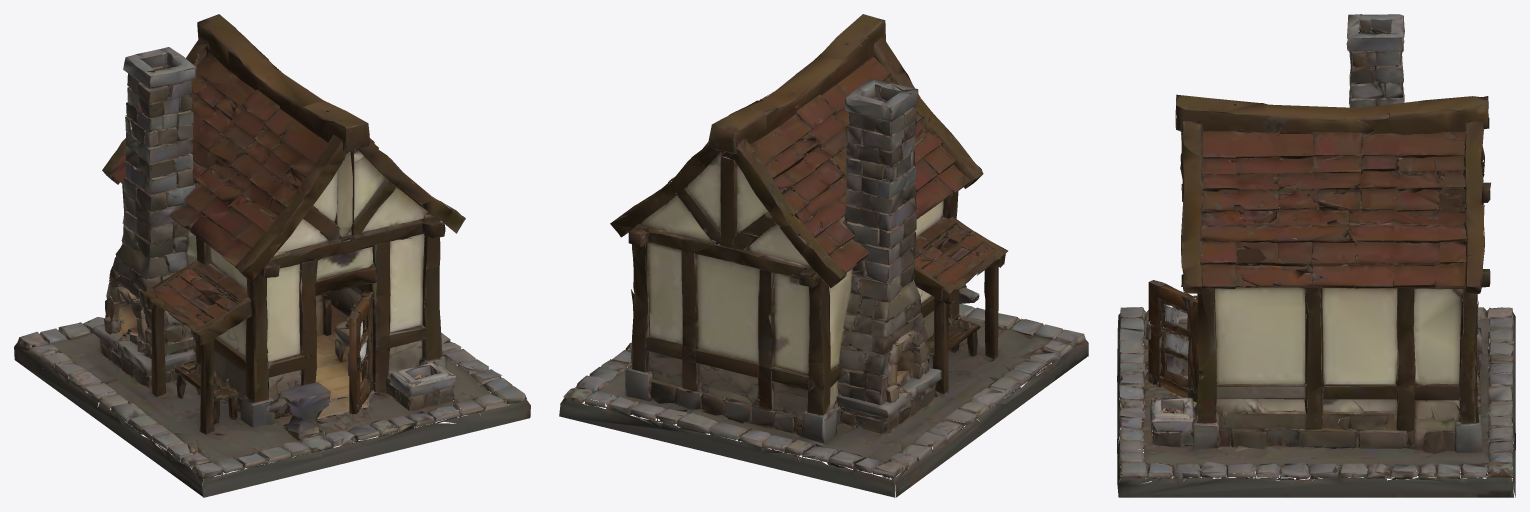
The model's file is blacksmith.glb.
The picture shows the model from 3 angles, left to right: view 1: azimuth 30°, elevation 25°; view 2: azimuth 150°, elevation 25°; view 3: azimuth 270°, elevation 25°; orthographic projection. The views are drawn at different scales.
Visible parts, largest first — view 1: Building; view 2: Building; view 3: Building.
Boxes of the visible parts, x1,y1,x2,y2 form: Building: (14,14,530,497); Building: (559,14,1088,497); Building: (1117,14,1515,497).
Size of the model in its own units: 2.61 by 2.5 by 2.61.
Materials: 1 (1 with a texture image).
